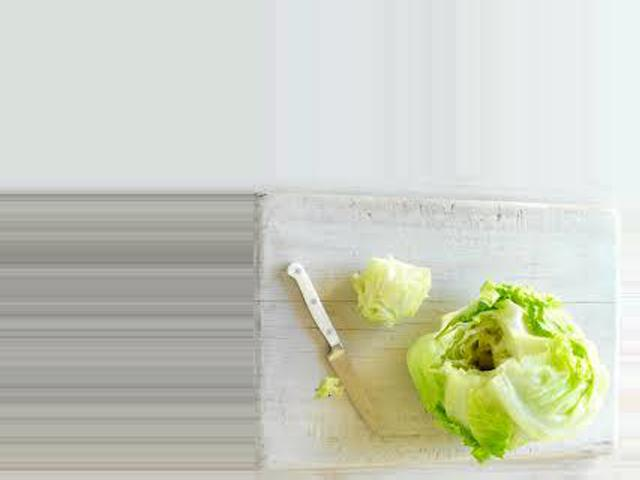lettuce: (424, 282, 612, 452)
